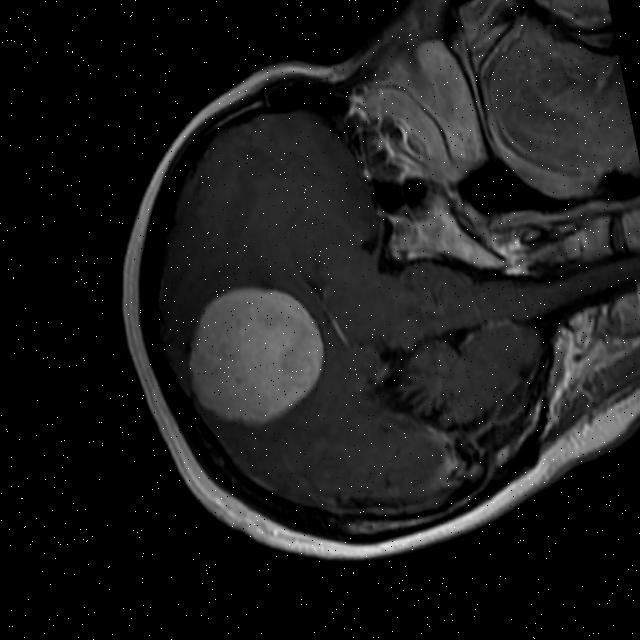Meningioma: (170, 274, 338, 436)
